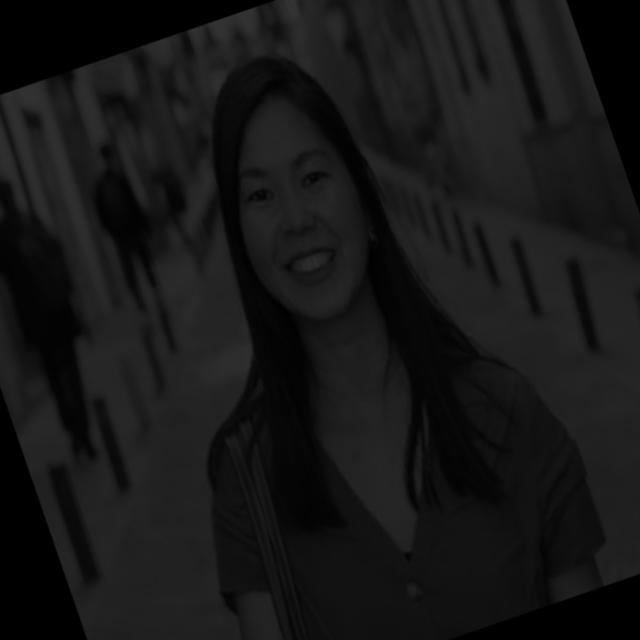Happy: (185, 67, 411, 356)
